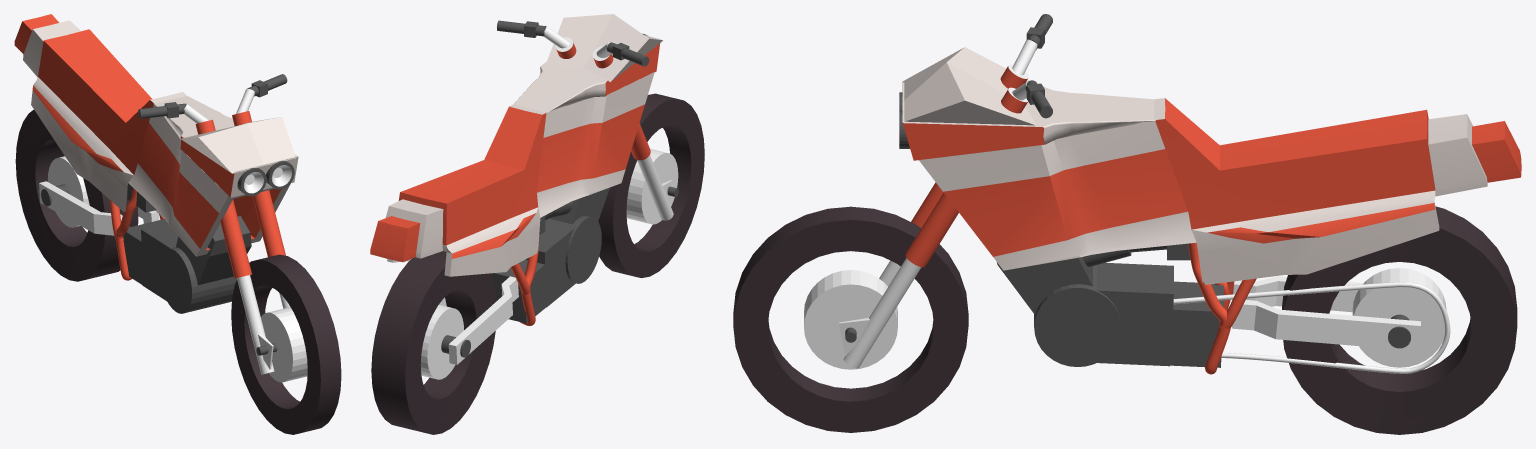
Rendered from bikes_sketchfab 1.fbx.
3 renders of one model, left to right at view 1: azimuth 30°, elevation 25°; view 2: azimuth 150°, elevation 25°; view 3: azimuth 270°, elevation 25°, orthographic. The views are drawn at different scales.
Parts seen in each view (by area): view 1: Cube, Cylinder, Cylinder.001, Cylinder.003, Cube.002, Cylinder.002, Cube.001, Cube.005, Cylinder.004, Cube.006, Cube.004, Cylinder.010 (+3 smaller); view 2: Cube, Cylinder.001, Cylinder, Cube.001, Cube.002, Cube.005, Cylinder.004, Cylinder.005, Cylinder.002, Cube.006, Cylinder.003, Cylinder.010 (+2 smaller); view 3: Cube, Cylinder.001, Cylinder, Cube.005, Cube.001, Cube.002, Cube.006, Cylinder.002, Cylinder.004, Cylinder.003, Cylinder.005, BezierCurve.001 (+3 smaller).
Boxes of the visible parts, <box> form: Cube: <box>14,14,290,256</box>; Cylinder: <box>231,254,341,434</box>; Cylinder.001: <box>15,109,138,281</box>; Cylinder.003: <box>195,111,290,374</box>; Cube.002: <box>180,117,295,173</box>; Cylinder.002: <box>159,247,236,313</box>; Cube.001: <box>154,96,298,197</box>; Cube.005: <box>123,219,178,300</box>; Cylinder.004: <box>261,307,307,382</box>; Cube.006: <box>39,181,159,235</box>; Cube.004: <box>176,216,251,285</box>; Cylinder.010: <box>138,74,287,123</box>; Cube: <box>370,72,654,276</box>; Cylinder.001: <box>371,251,496,434</box>; Cylinder: <box>598,93,704,278</box>; Cube.001: <box>513,35,660,113</box>; Cube.002: <box>545,14,662,81</box>; Cube.005: <box>490,221,575,323</box>; Cylinder.004: <box>626,148,678,224</box>; Cylinder.005: <box>420,304,463,379</box>; Cylinder.002: <box>545,216,601,283</box>; Cube.006: <box>439,276,518,364</box>; Cylinder.003: <box>555,37,673,220</box>; Cylinder.010: <box>497,20,649,66</box>; Cube: <box>919,98,1521,284</box>; Cylinder.001: <box>1282,206,1517,434</box>; Cylinder: <box>733,206,968,432</box>; Cube.005: <box>1097,262,1223,367</box>; Cube.001: <box>902,82,1155,160</box>; Cube.002: <box>902,47,1035,125</box>; Cube.006: <box>1232,276,1420,350</box>; Cylinder.002: <box>1034,265,1121,366</box>; Cylinder.004: <box>804,270,897,369</box>; Cylinder.003: <box>843,64,1028,368</box>; Cylinder.005: <box>1352,268,1446,367</box>; BezierCurve.001: <box>1173,282,1450,373</box>.
Bounding box in the file's own units: 283 × 518 × 1009.
